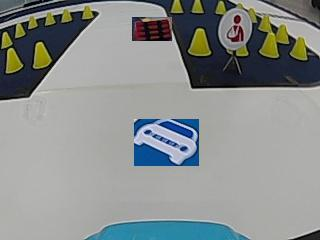cone: (186, 24, 213, 57), (33, 41, 54, 69), (263, 32, 281, 59), (5, 46, 22, 73), (292, 36, 309, 61), (257, 15, 273, 31), (276, 23, 288, 44), (80, 5, 93, 21), (2, 34, 15, 48), (171, 1, 183, 15), (16, 24, 27, 38), (63, 8, 73, 23), (192, 1, 203, 14), (28, 14, 38, 28), (46, 13, 56, 26), (215, 0, 222, 13)
patient: (222, 8, 250, 49)
